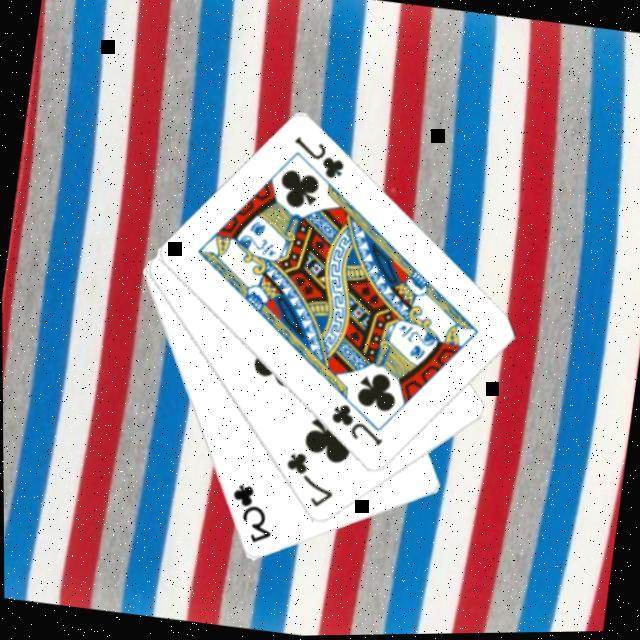3C: (223, 482, 281, 551)
7C: (278, 449, 342, 516)
JC: (325, 400, 391, 453), (287, 134, 353, 187)
